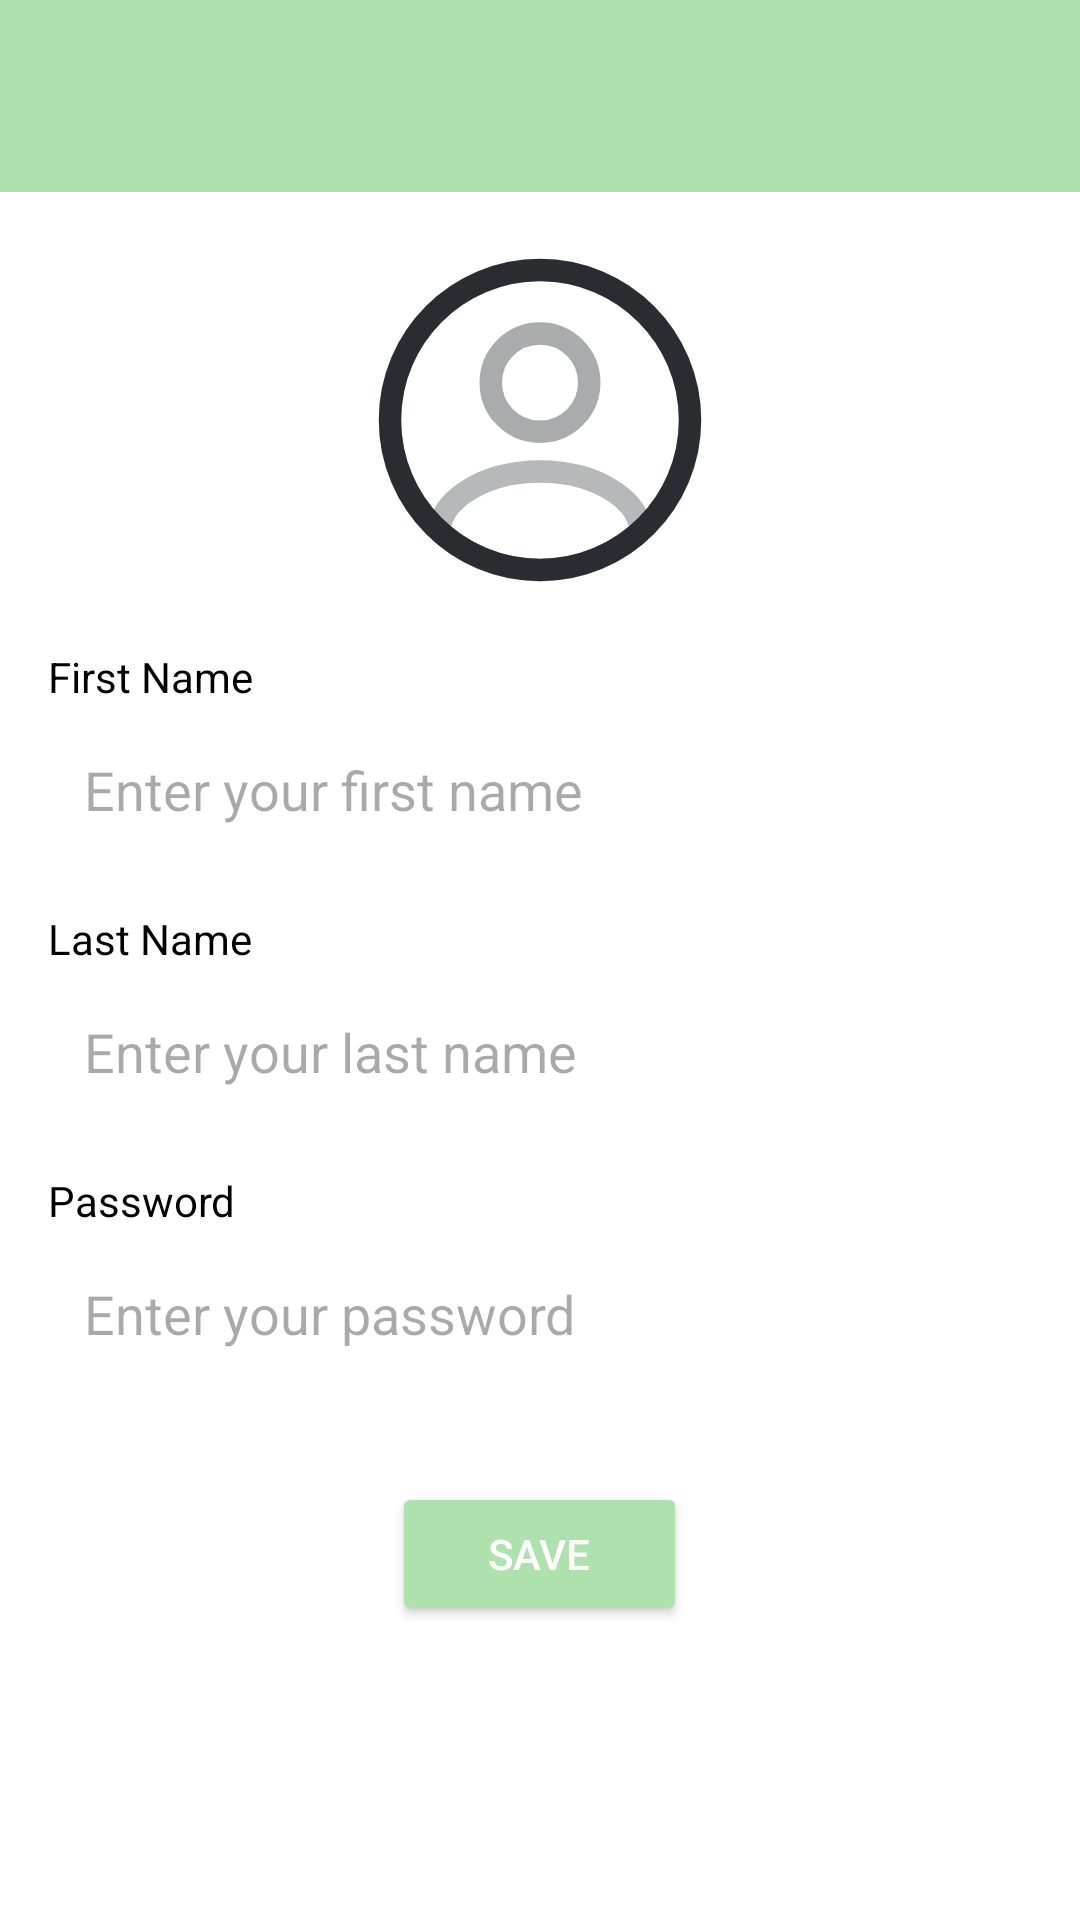

Icon bounding boxes for this 1080*1920 phone screenshot, format bbox=[x1, y1, x2, y2]:
Profile Image: bbox=[378, 258, 702, 582]
